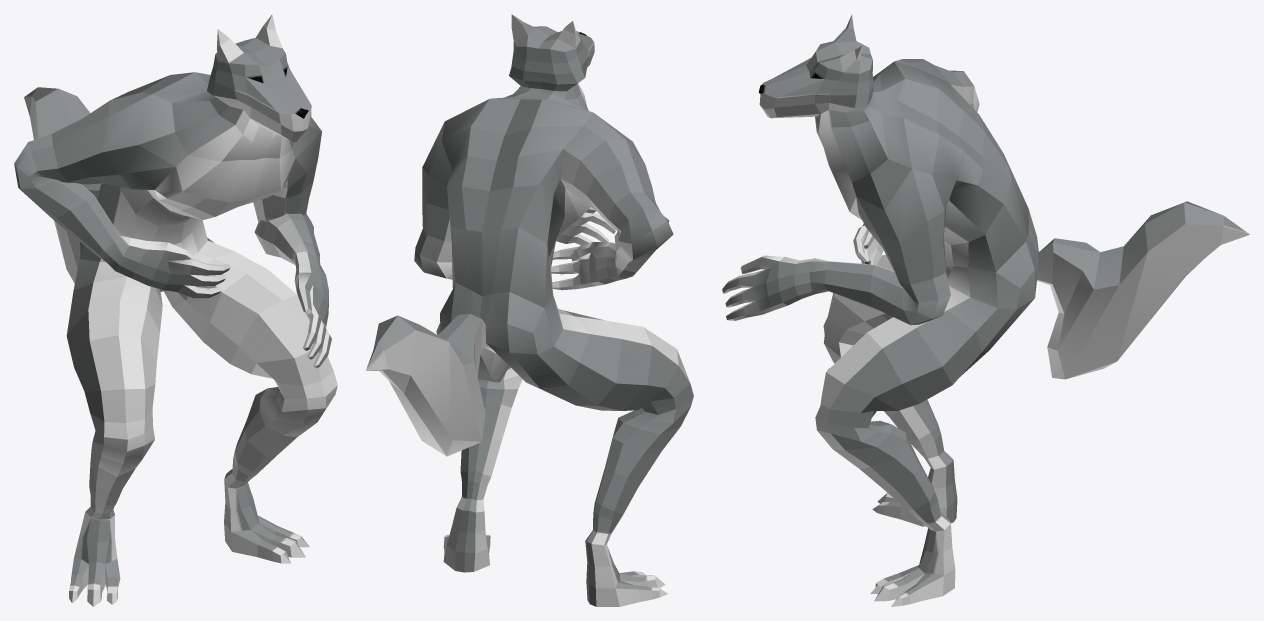
Rendered from WolfIdle_(62).obj.
The picture shows the model from 3 angles, left to right: view 1: azimuth 30°, elevation 25°; view 2: azimuth 150°, elevation 25°; view 3: azimuth 270°, elevation 25°; orthographic projection. The views are drawn at different scales.
Parts seen in each view (by area): view 1: Box001; view 2: Box001; view 3: Box001.
Boxes of the visible parts, left/top/right/bottom form: Box001: left=14, top=14, right=337, bottom=606; Box001: left=366, top=14, right=693, bottom=606; Box001: left=722, top=14, right=1249, bottom=606.
Bounding box in the file's own units: 68.24 × 131 × 116.
